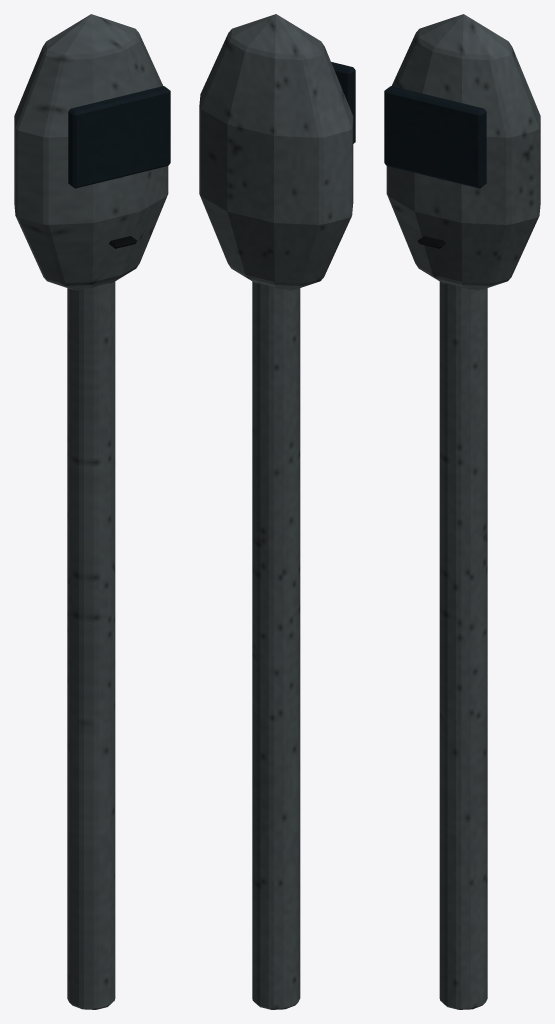
Rendered from PROP-52D0386E0603_lod1.glb.
The picture shows the model from 3 angles, left to right: view 1: azimuth 30°, elevation 25°; view 2: azimuth 150°, elevation 25°; view 3: azimuth 330°, elevation 25°; orthographic projection.
Parts seen in each view (by area): view 1: meter_post.001, meter_head.001, meter_display.001; view 2: meter_post.001, meter_head.001, meter_display.001; view 3: meter_post.001, meter_head.001, meter_display.001.
Part boxes in pixels (<box>): meter_post.001: <box>67,281,115,1009</box>; meter_head.001: <box>14,14,168,290</box>; meter_display.001: <box>68,86,170,188</box>; meter_post.001: <box>252,281,300,1009</box>; meter_head.001: <box>199,14,353,290</box>; meter_display.001: <box>331,62,355,143</box>; meter_post.001: <box>439,281,487,1009</box>; meter_head.001: <box>386,14,540,290</box>; meter_display.001: <box>384,86,486,188</box>.
Size of the model in its own units: 0.2435 by 1.54 by 0.1724.
3 materials, 3 textured.
